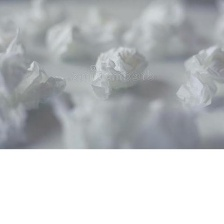tissue: (0, 23, 73, 117), (171, 38, 224, 116), (86, 41, 154, 98)
